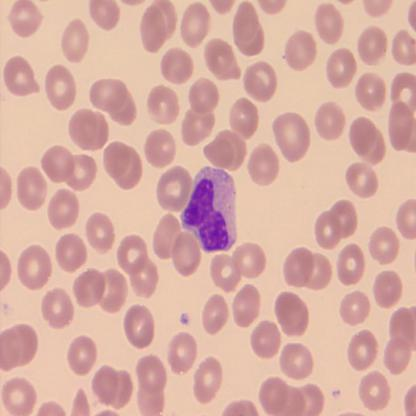Metamyelocyte: (179, 162, 242, 256)
